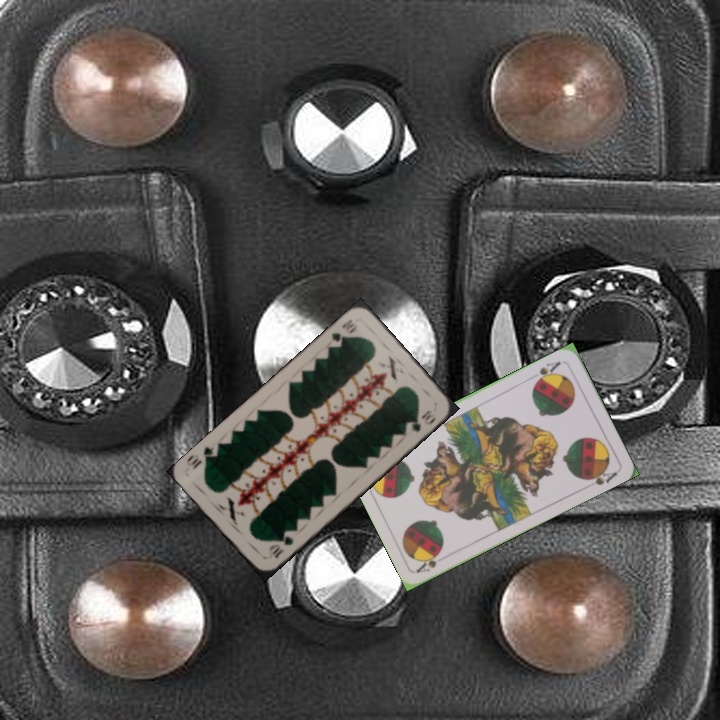G10: (327, 315, 360, 350), (265, 532, 296, 561)
SA: (530, 357, 564, 386), (413, 547, 444, 575)
